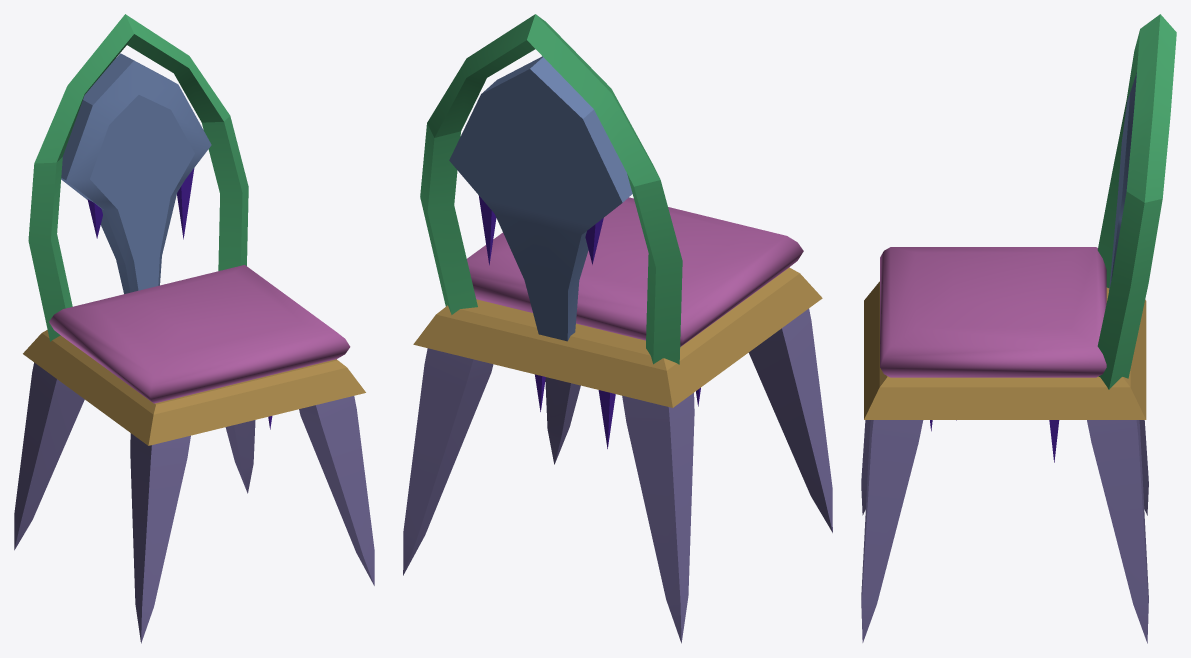
Rendered from L3_chair.fbx.
3 views of the same model, side by side, from view 1: azimuth 30°, elevation 25°; view 2: azimuth 150°, elevation 25°; view 3: azimuth 270°, elevation 25° (orthographic). The views are drawn at different scales.
Parts seen in each view (by area): view 1: L3_chair; view 2: L3_chair; view 3: L3_chair.
Boxes of the visible parts, bbox=[...] form: L3_chair: bbox=[14, 14, 374, 643]; L3_chair: bbox=[403, 14, 832, 643]; L3_chair: bbox=[861, 14, 1176, 643].
Size of the model in its own units: 16.93 by 34.92 by 17.65.
